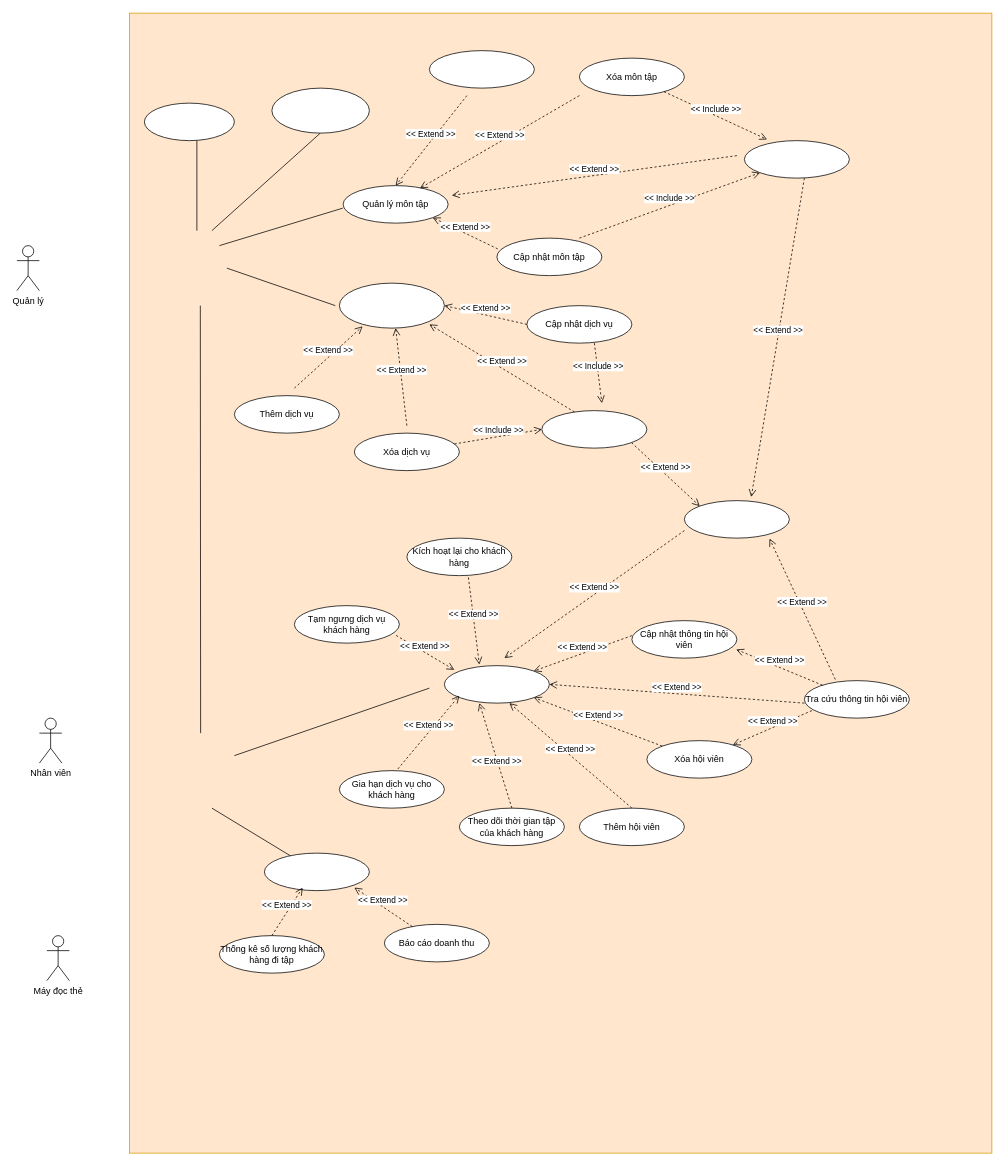
The diagram is 1005 pixels wide and 1166 high, and some of its shapes have lost their labels. The centre of each missing label's shape, as x and y in pixels:
"Quản lý dịch vụ" goes at (x=391, y=305).
"Quản lý thông tin huấn luyện viên" goes at (x=320, y=110).
"Quản lý thông tin hội viên" goes at (x=496, y=684).
"Quản lý thông tin nhân viên" goes at (x=189, y=121).
"Thêm môn tập" goes at (x=481, y=69).
"Thống kê báo cáo" goes at (x=316, y=871).
"Tra cứu thông tin dịch vụ" goes at (x=594, y=429).
"Tra cứu thông tin môn tập" goes at (x=796, y=159).
"Đăng kí dịch vụ khách hàng" goes at (x=736, y=519).
